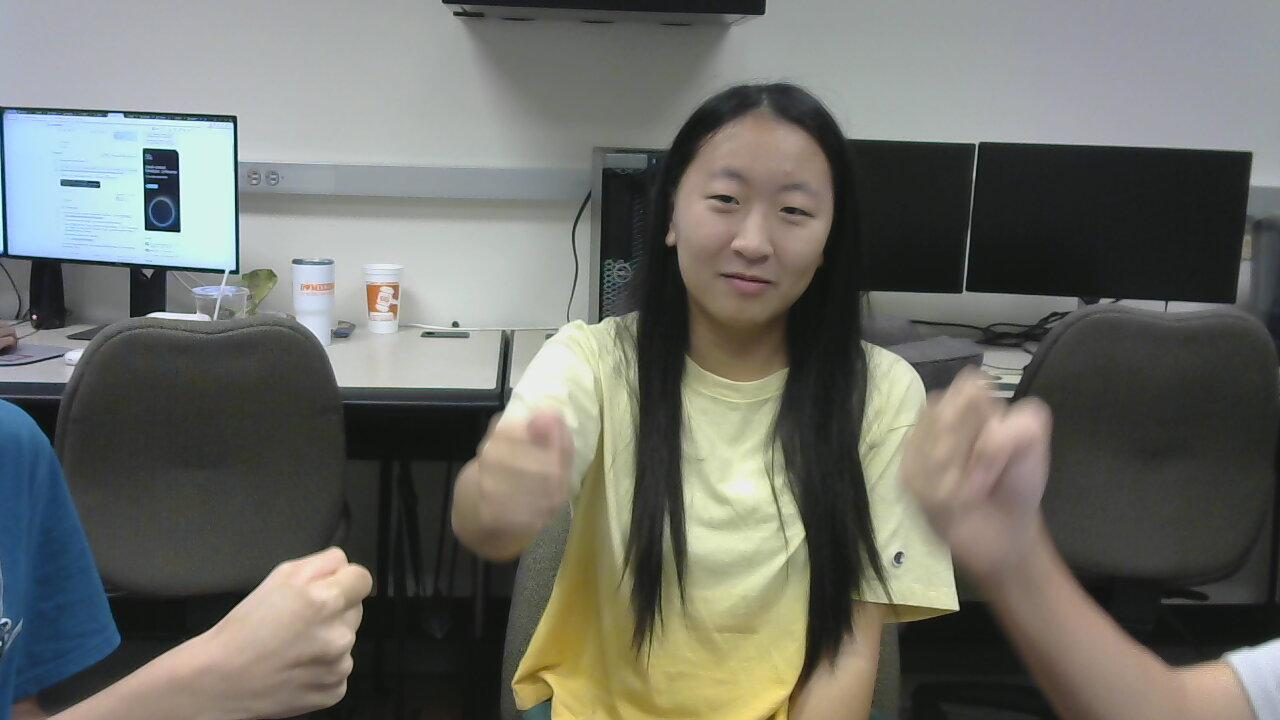fist: (887, 377, 1067, 572), (464, 393, 597, 568), (237, 547, 366, 720)
